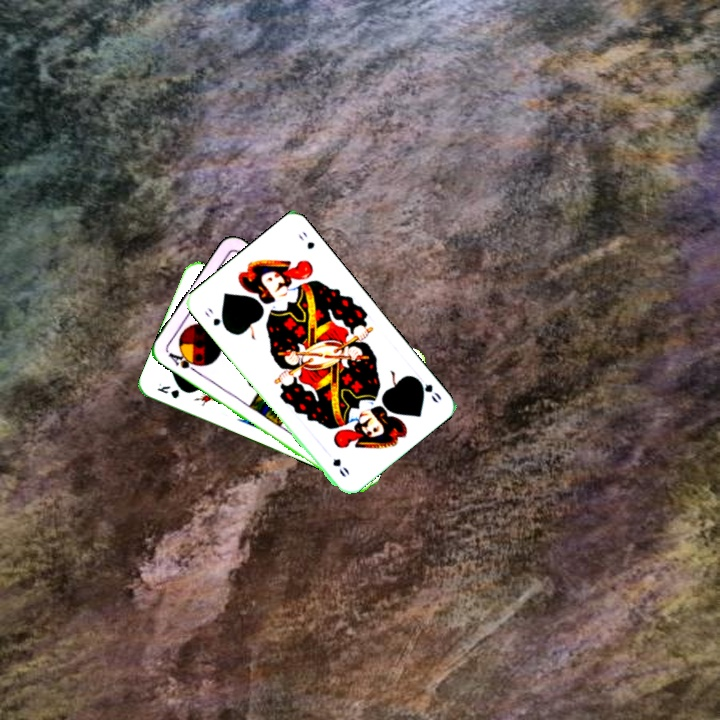GK: (153, 379, 182, 401)
GO: (410, 373, 444, 406), (200, 303, 231, 334)
SA: (164, 347, 204, 375)
